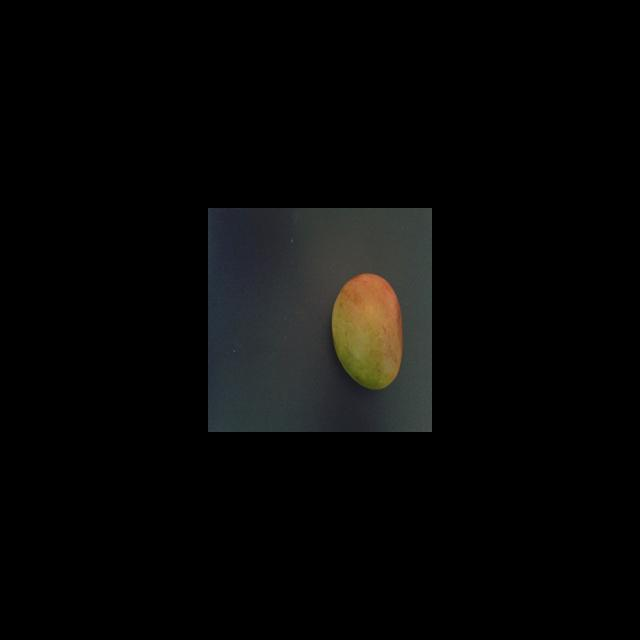Mango: (330, 272, 403, 390)
